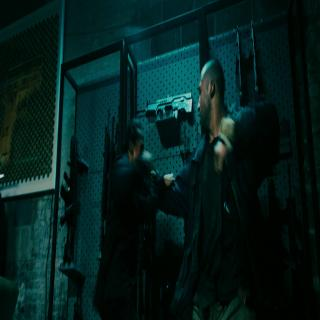gun: (138, 90, 192, 127)
